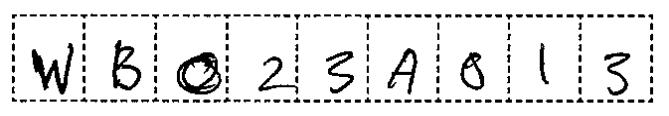0: (169, 47, 225, 95), (454, 50, 492, 94)
1: (525, 36, 559, 88)
2: (251, 53, 293, 94)
3: (320, 46, 357, 96), (599, 47, 636, 96)
A: (380, 44, 420, 96)
B: (105, 38, 146, 94)
W: (26, 38, 77, 97)
